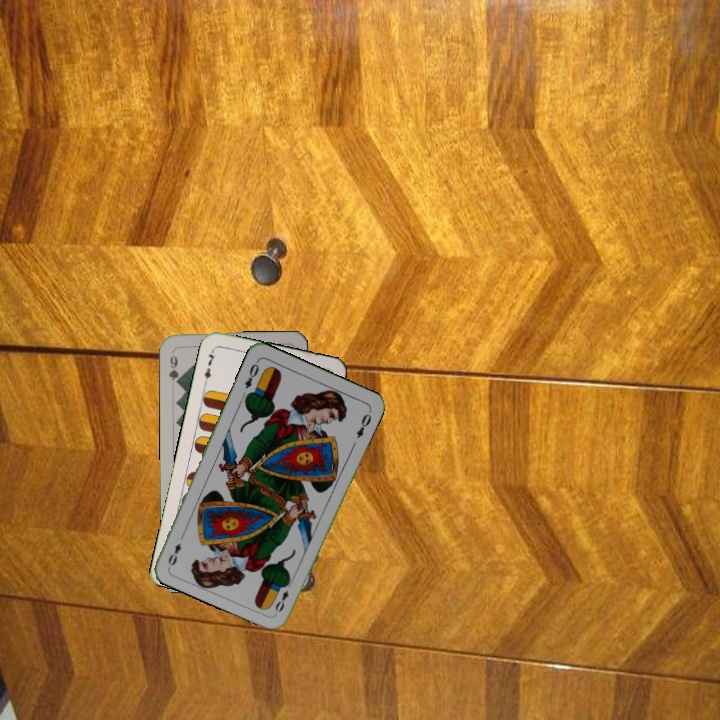E7: (200, 346, 218, 386)
EO: (271, 577, 295, 615), (241, 356, 261, 391)
G9: (165, 347, 182, 387)
